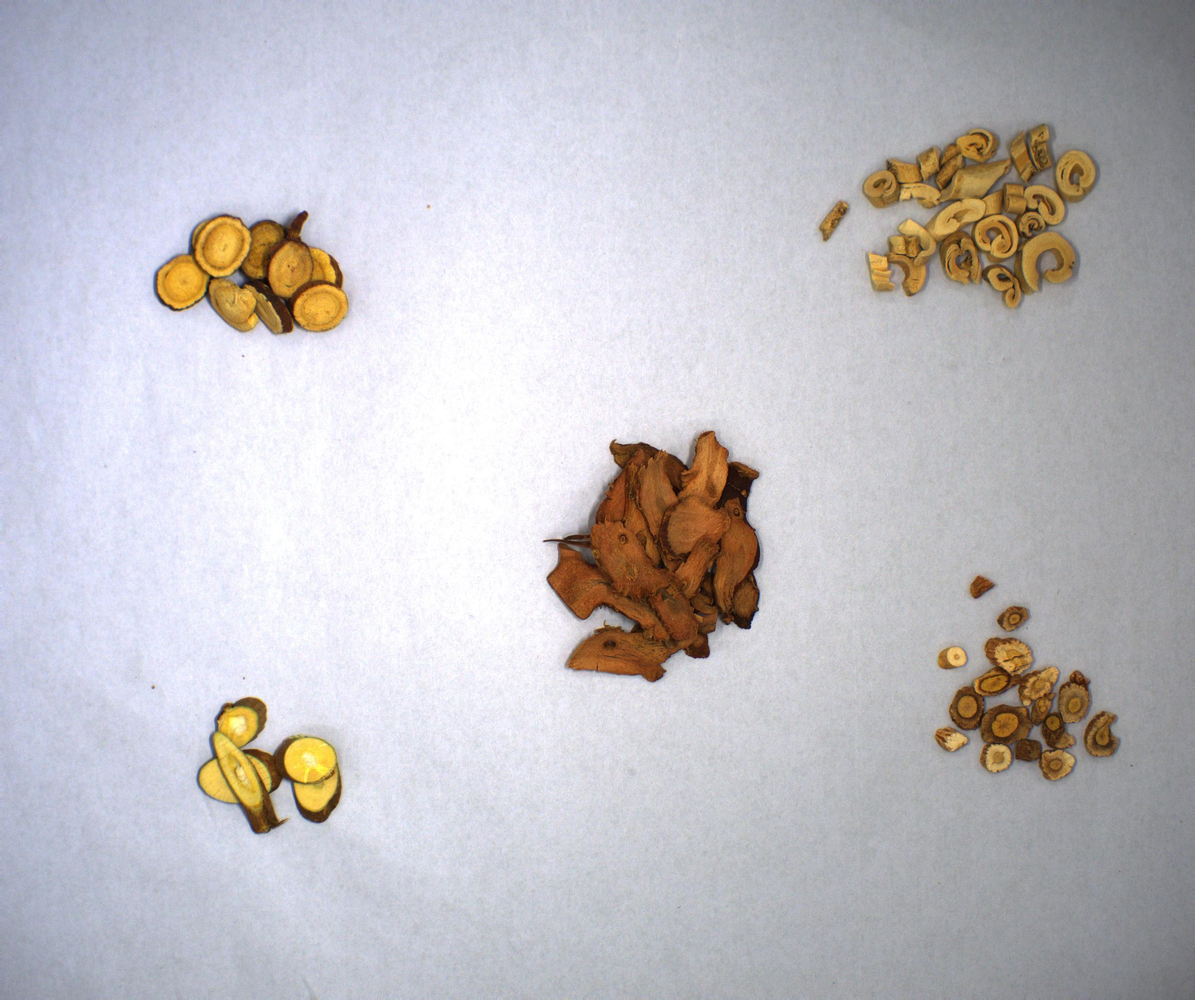baixianpi: (804, 124, 1103, 319)
banlangen: (924, 568, 1132, 794)
gancaopian: (143, 211, 369, 343)
gaoliangjiang: (536, 432, 774, 689)
sangzhi: (190, 689, 351, 854)
